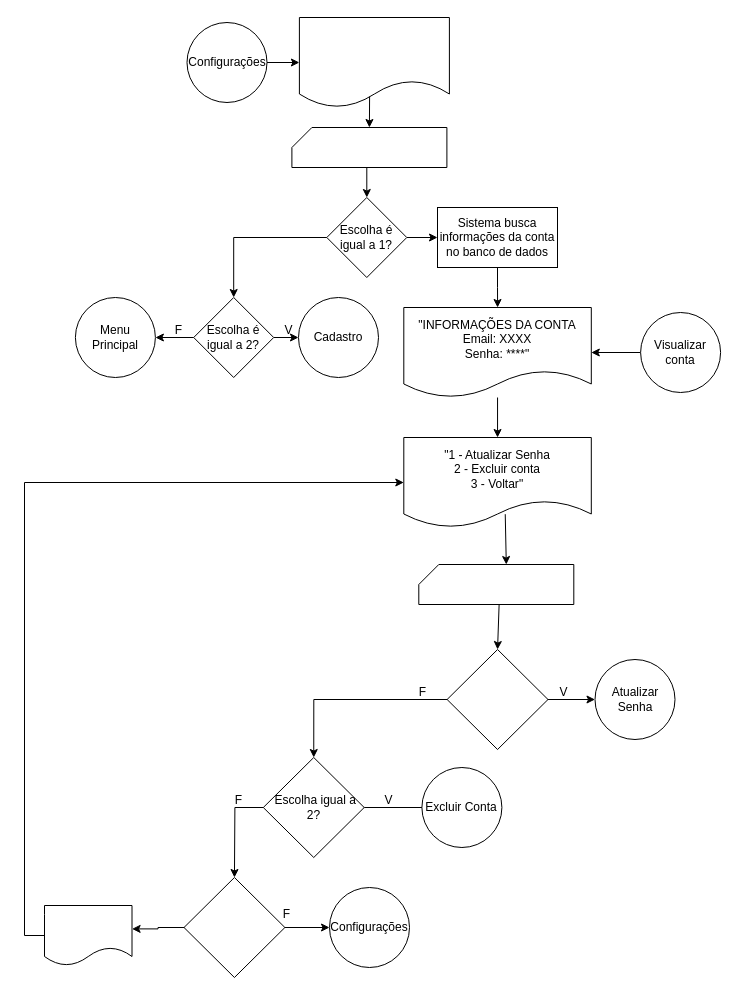
The diagram is 739 pixels wide and 995 high, and some of its shapes have lost their labels. Each missing label, with the centre of its shape:
"CONFIGURAÇÕES 1. Visualizar Conta 2. Sair da Conta 3. Voltar": (373,62)
"Dígito inválido. Digite-o novamente. ": (88,935)
Dígito de Escolha: (369,147)
Escolha: (496,584)
Escolha igual a 1?: (497,699)
Escolha igual a 3?: (234,927)
